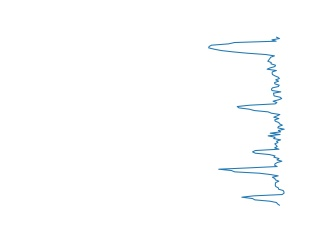distalBar: (204, 34, 285, 86)
interdistributaryEstuary: (234, 86, 287, 140)
underwaterNaturalLevee: (215, 140, 286, 207)
